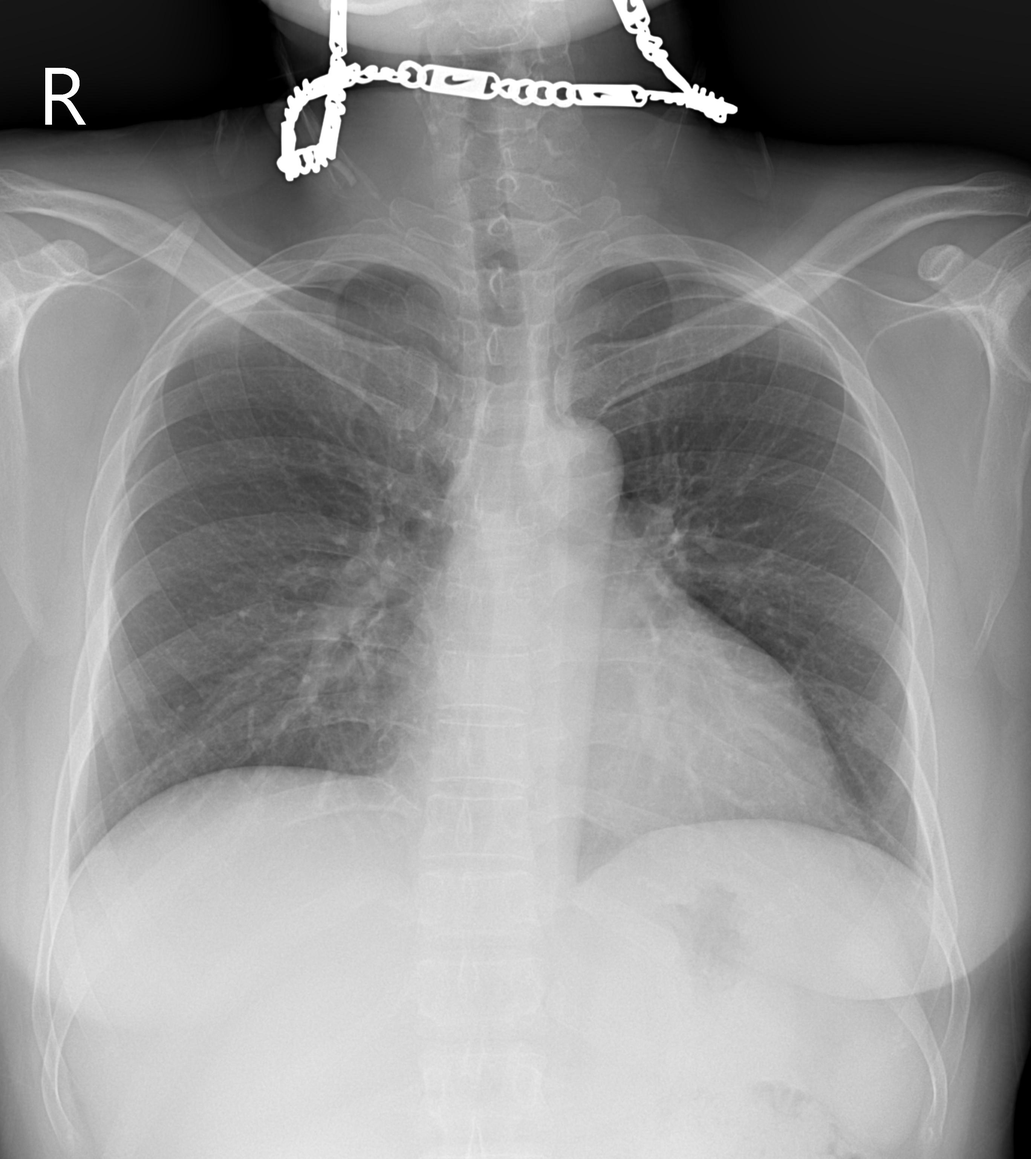Aortic enlargement: (520, 416, 624, 515)
Cardiomegaly: (387, 673, 841, 834)
Pleural thickening: (253, 261, 420, 283)
